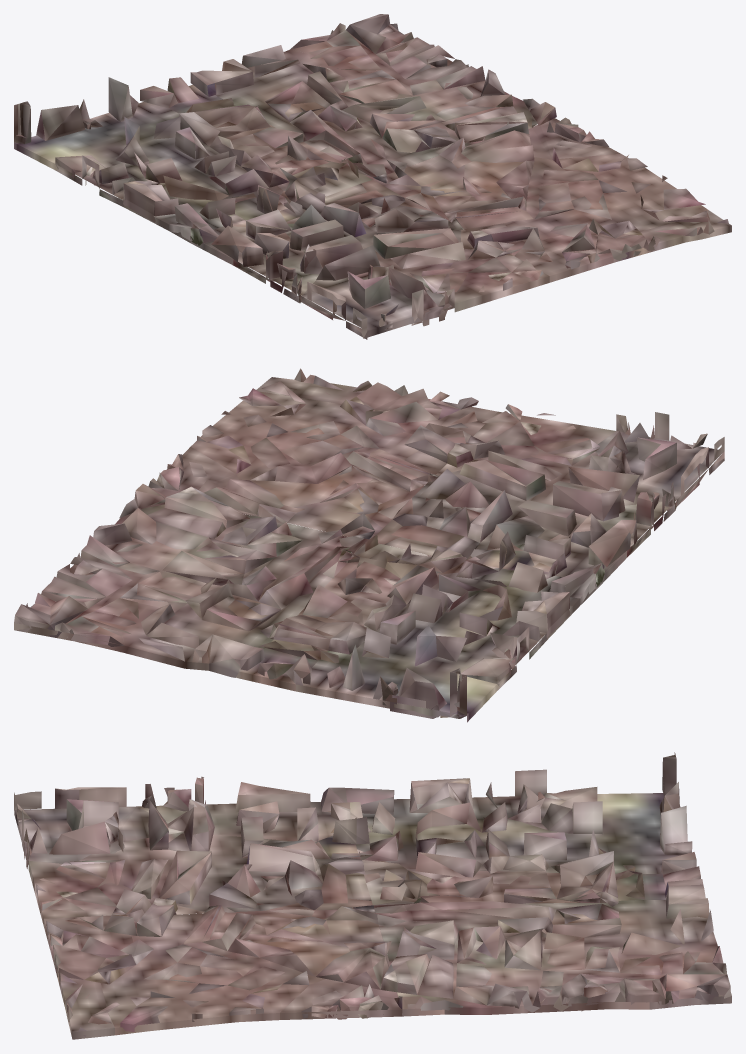
3 views of the same model, one above another, from view 1: azimuth 30°, elevation 25°; view 2: azimuth 150°, elevation 25°; view 3: azimuth 270°, elevation 25° (orthographic). The views are drawn at different scales.
Parts seen in each view (by area): view 1: Mesh_0; view 2: Mesh_0; view 3: Mesh_0.
Boxes of the visible parts, x1,y1,x2,y2 form: Mesh_0: [14, 14, 731, 339]; Mesh_0: [14, 368, 724, 722]; Mesh_0: [14, 752, 731, 1039].
Bounding box in the file's own units: 1064 × 109 × 1320.
2 materials, 2 textured.
